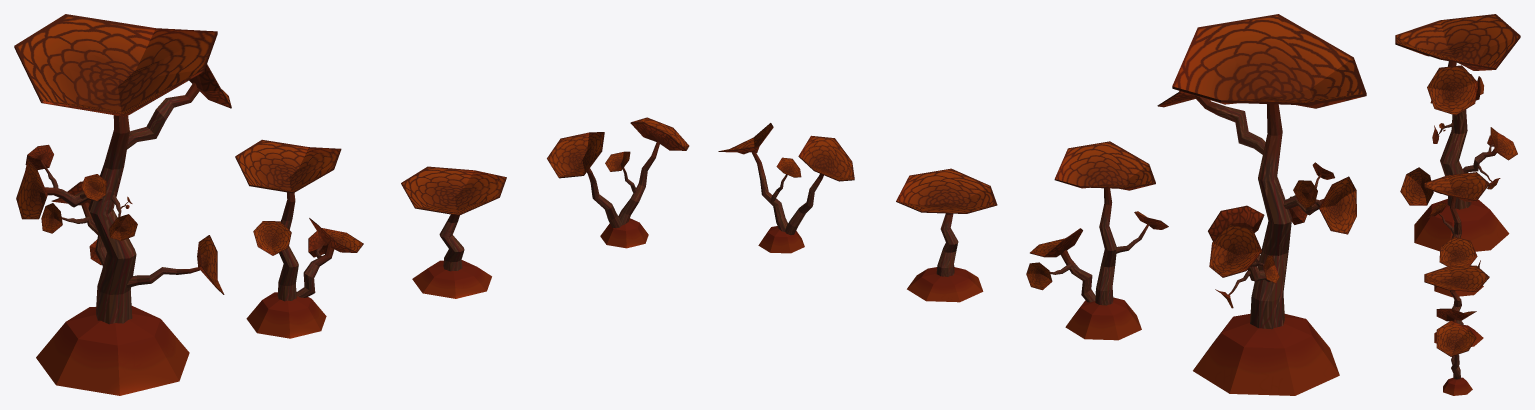
File: arvore_parabolica.glb
3 views of the same model, side by side, from view 1: azimuth 30°, elevation 25°; view 2: azimuth 150°, elevation 25°; view 3: azimuth 270°, elevation 25° (orthographic). The views are drawn at different scales.
Visible parts, largest first — view 1: Arvore p grande_1, Arvore p media_2, Arvore p 1g_3, Arvore p de 3g_4; view 2: Arvore p grande_1, Arvore p media_2, Arvore p 1g_3, Arvore p de 3g_4; view 3: Arvore p grande_1, Arvore p media_2, Arvore p de 3g_4, Arvore p 1g_3.
Boxes of the visible parts, x1,y1,x2,y2 form: Arvore p grande_1: (14, 14, 231, 395); Arvore p media_2: (235, 139, 363, 338); Arvore p 1g_3: (401, 166, 506, 298); Arvore p de 3g_4: (547, 117, 689, 248); Arvore p grande_1: (1157, 14, 1366, 395); Arvore p media_2: (1026, 141, 1168, 340); Arvore p 1g_3: (896, 168, 997, 302); Arvore p de 3g_4: (718, 123, 854, 253); Arvore p grande_1: (1395, 14, 1520, 251); Arvore p media_2: (1424, 172, 1489, 297); Arvore p de 3g_4: (1436, 308, 1476, 395); Arvore p 1g_3: (1424, 265, 1489, 346).
Size of the model in its own units: 38.75 by 18.11 by 10.15.
Materials: 1 (1 with a texture image).
